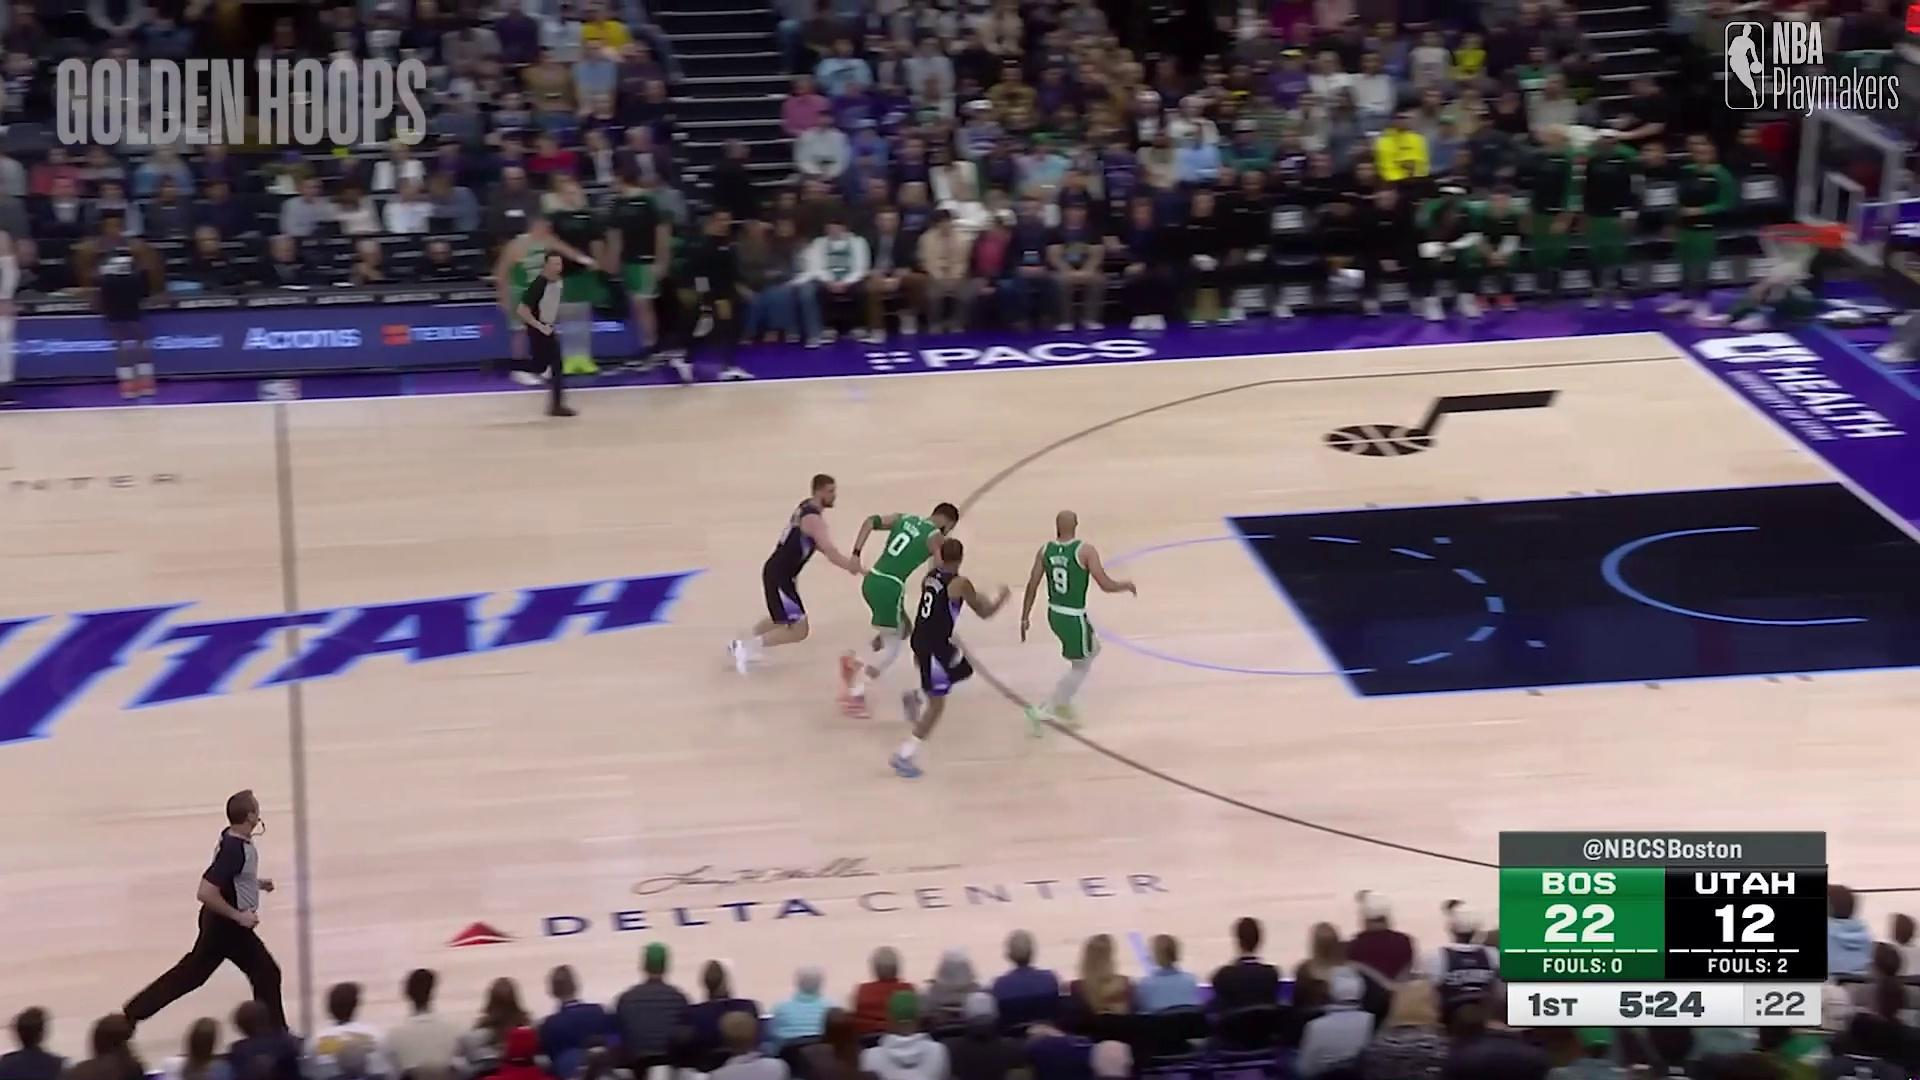hoop: (1760, 219, 1815, 286)
